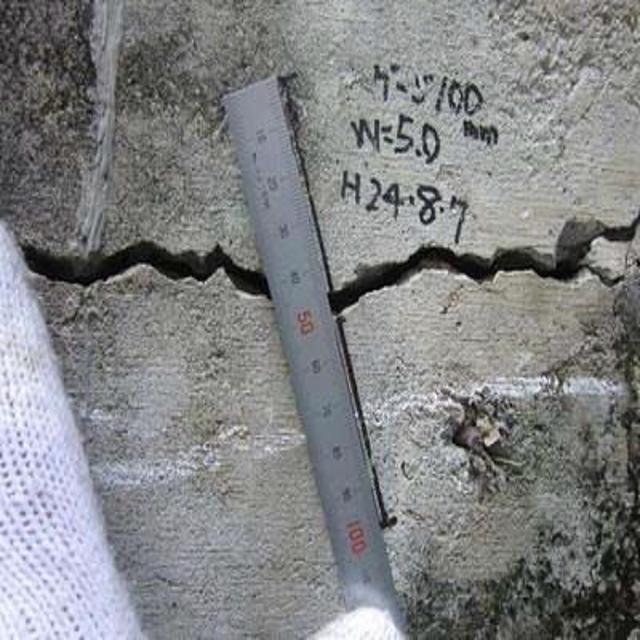crack: (21, 228, 640, 313)
